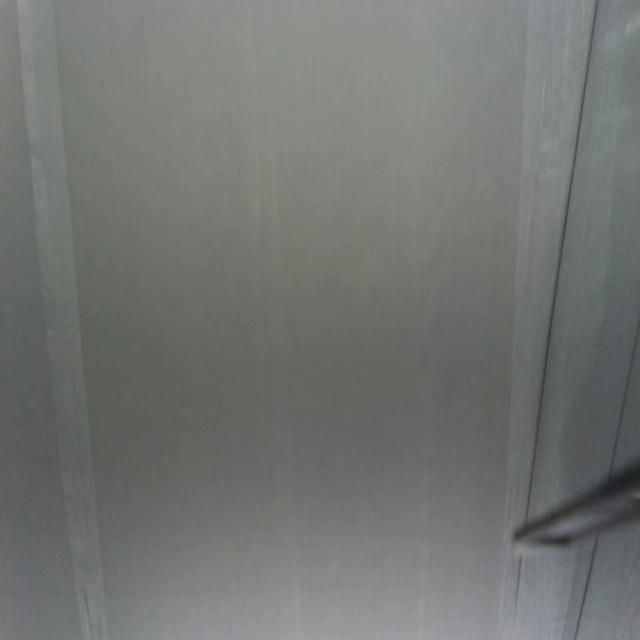crease: (18, 1, 109, 640), (525, 0, 601, 520), (605, 322, 640, 478), (573, 533, 600, 640), (512, 555, 526, 613)
